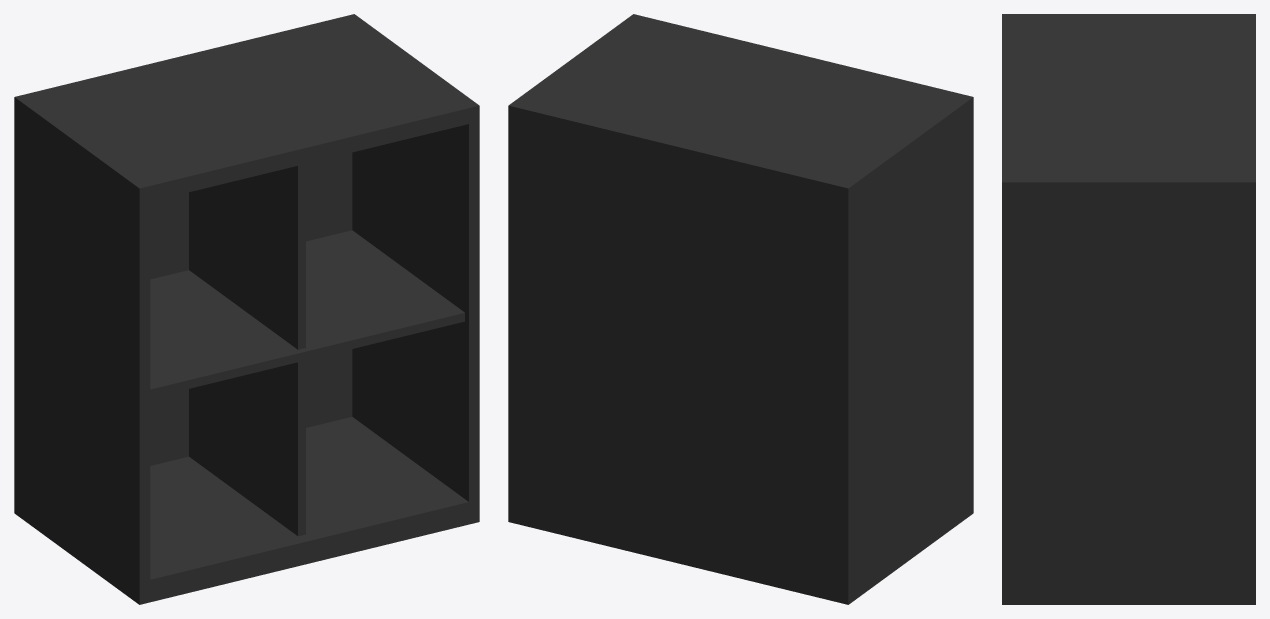
The model's file is shelf.glb.
The picture shows the model from 3 angles, left to right: view 1: azimuth 30°, elevation 25°; view 2: azimuth 150°, elevation 25°; view 3: azimuth 270°, elevation 25°; orthographic projection.
Visible parts, largest first — view 1: Expositor 1x1 C; view 2: Expositor 1x1 C; view 3: Expositor 1x1 C.
Boxes of the visible parts, left/top/right/bottom form: Expositor 1x1 C: left=14, top=14, right=479, bottom=604; Expositor 1x1 C: left=508, top=14, right=973, bottom=604; Expositor 1x1 C: left=1002, top=14, right=1255, bottom=604.
Bounding box in the file's own units: 0.7113 × 0.8324 × 0.4532.
1 material, 1 textured.
